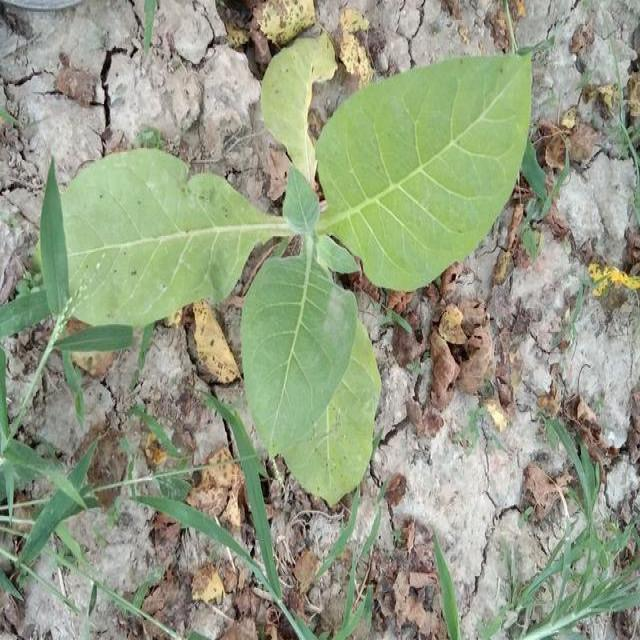crop: (60, 48, 544, 484)
